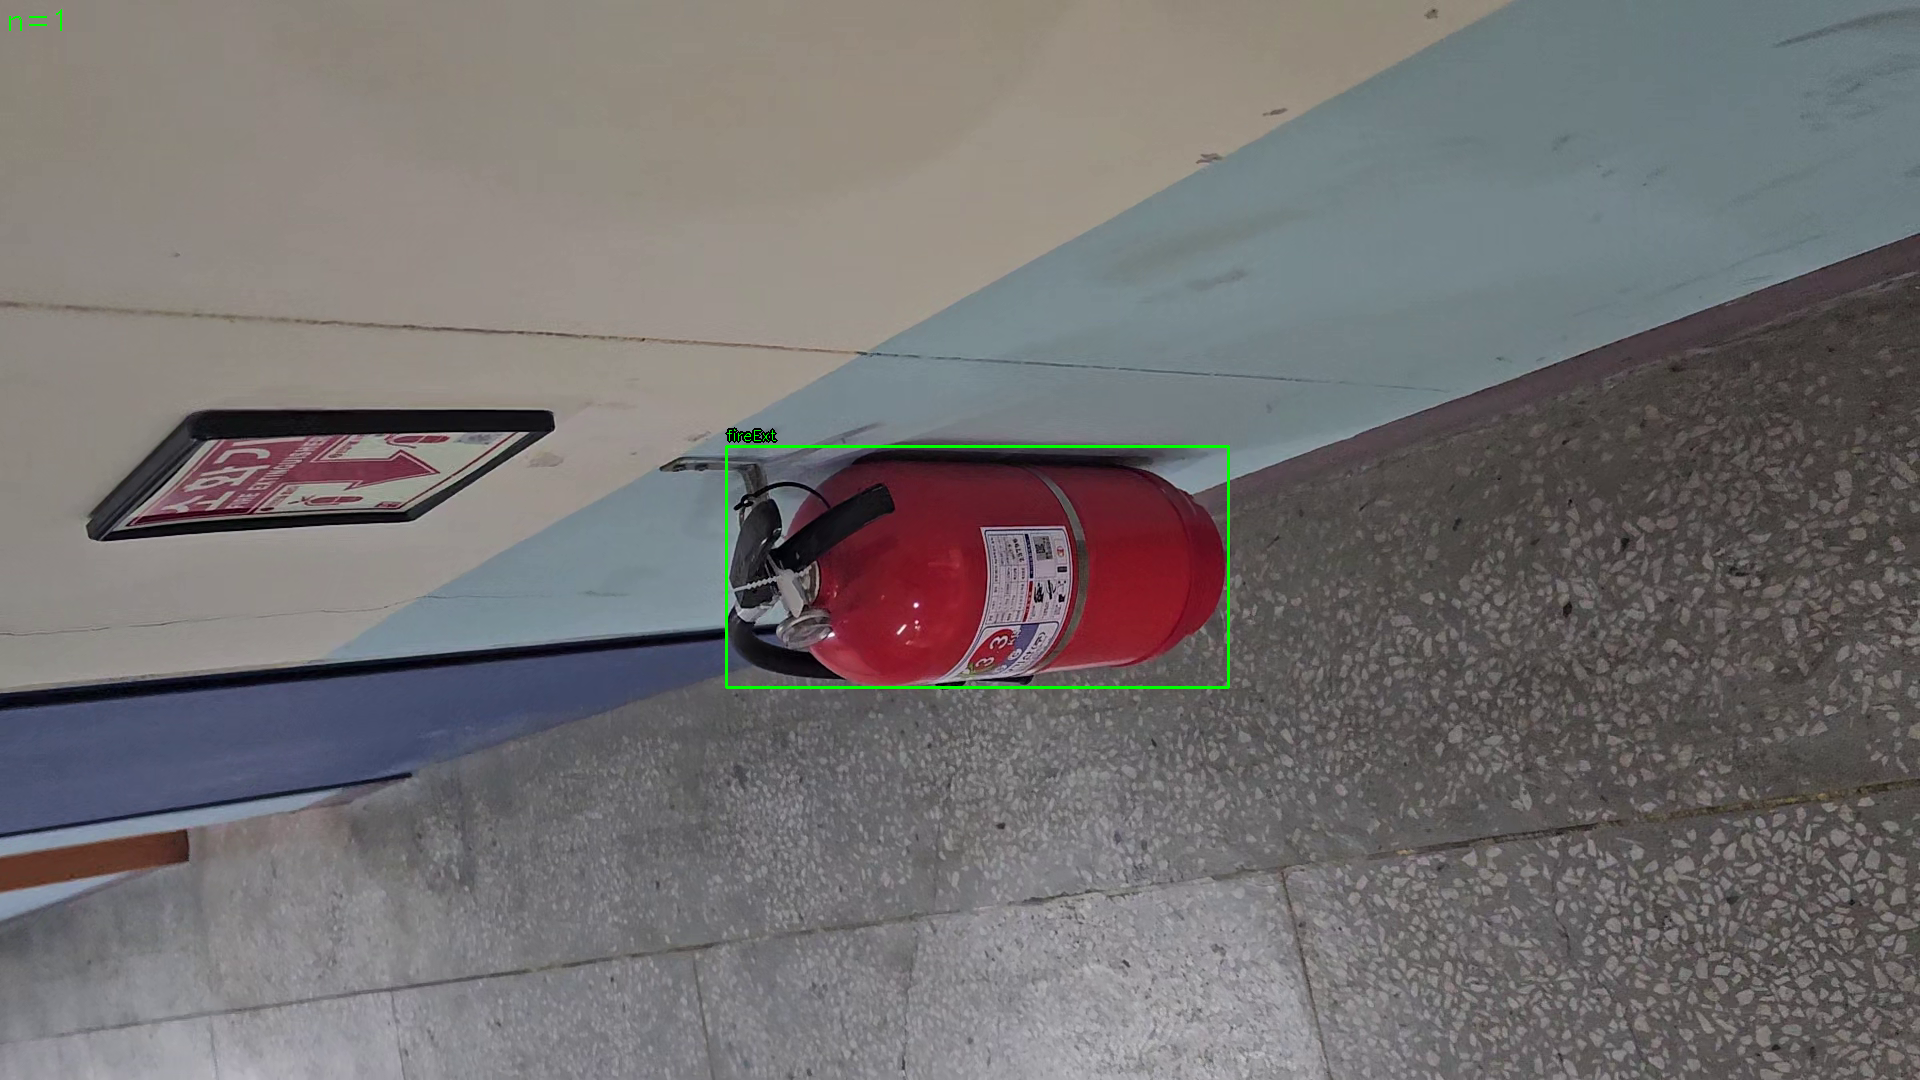lane: (727, 446, 1229, 688)
